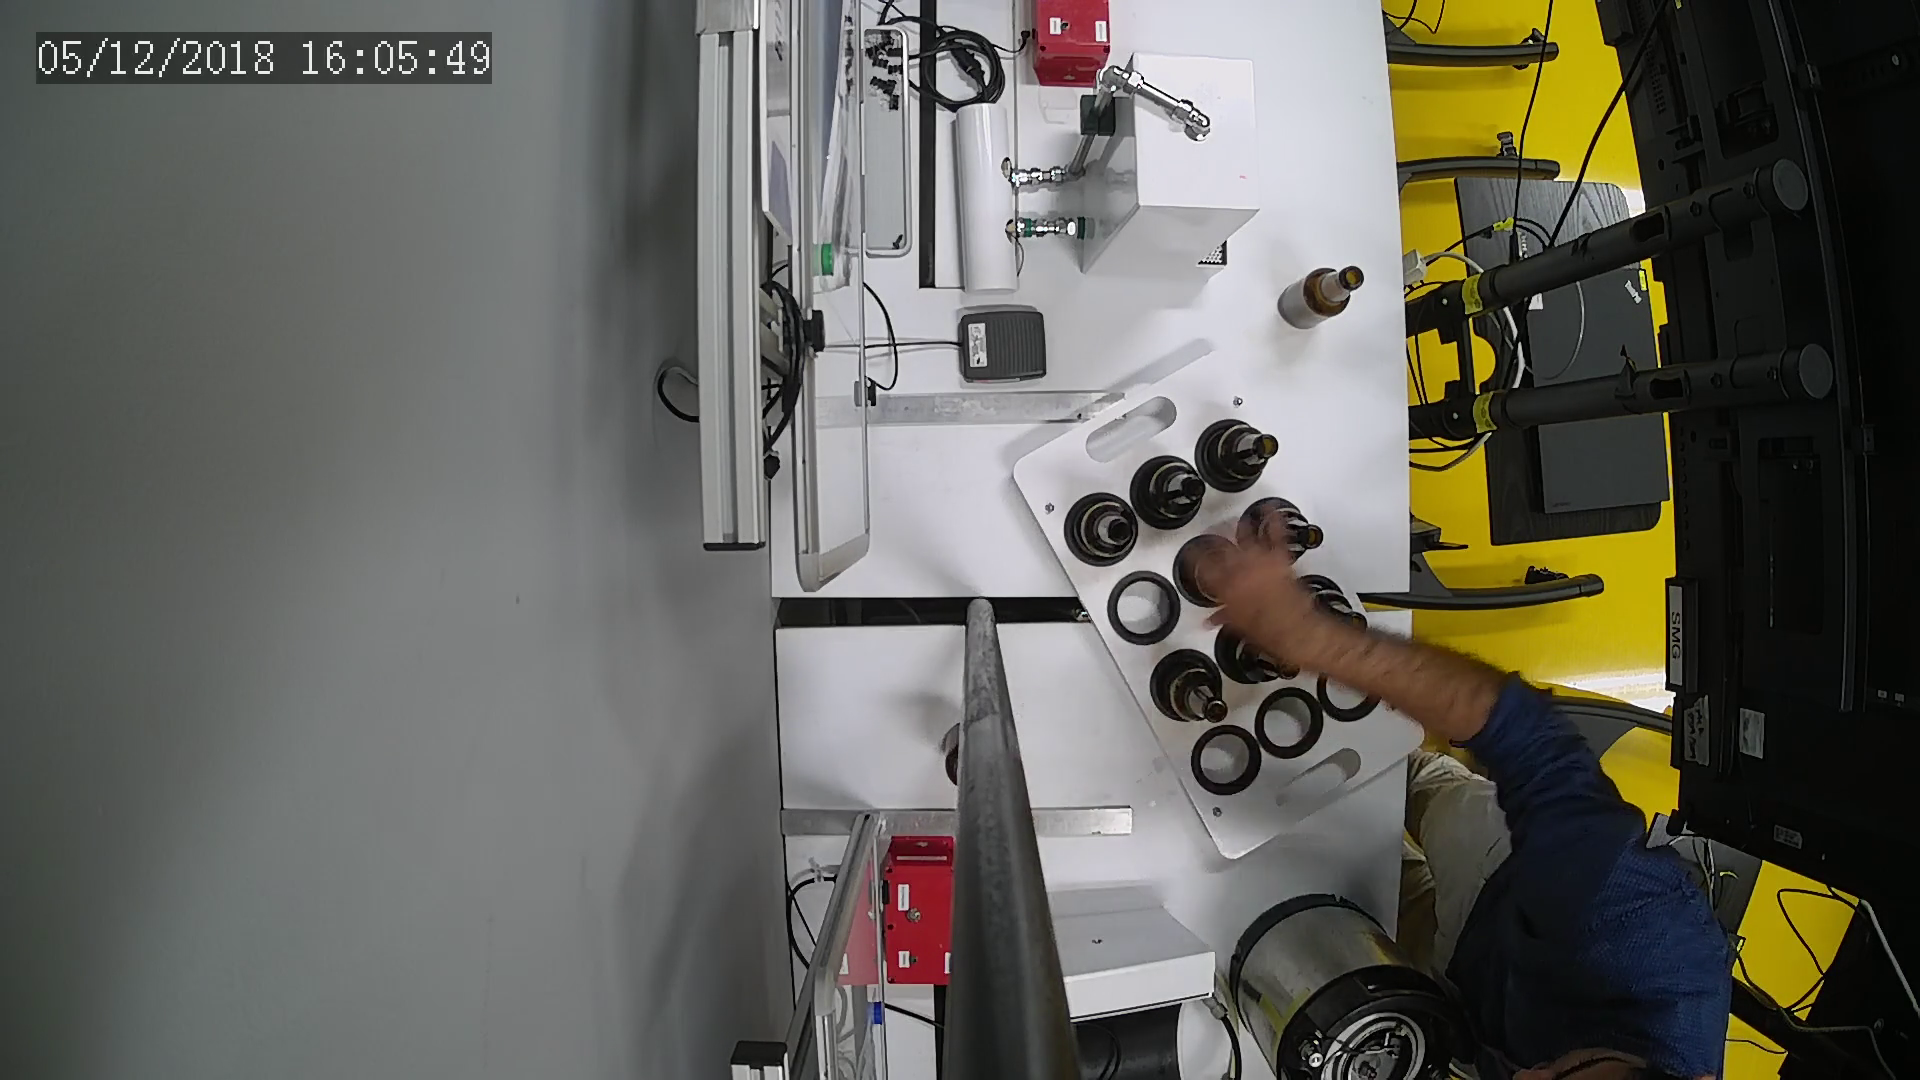filled_bottle: (1147, 649, 1233, 736), (1244, 498, 1333, 570), (1062, 491, 1143, 566), (1135, 455, 1215, 531), (1197, 419, 1283, 488), (1215, 641, 1308, 691), (1305, 576, 1371, 634)
trolley: (1010, 347, 1433, 866)
unfilled_bottle: (1274, 261, 1367, 328)
